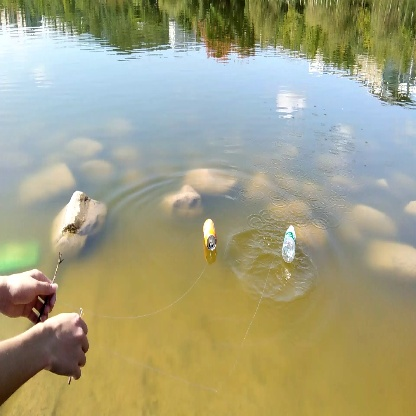bottle: (192, 212, 226, 257), (278, 223, 301, 261)
